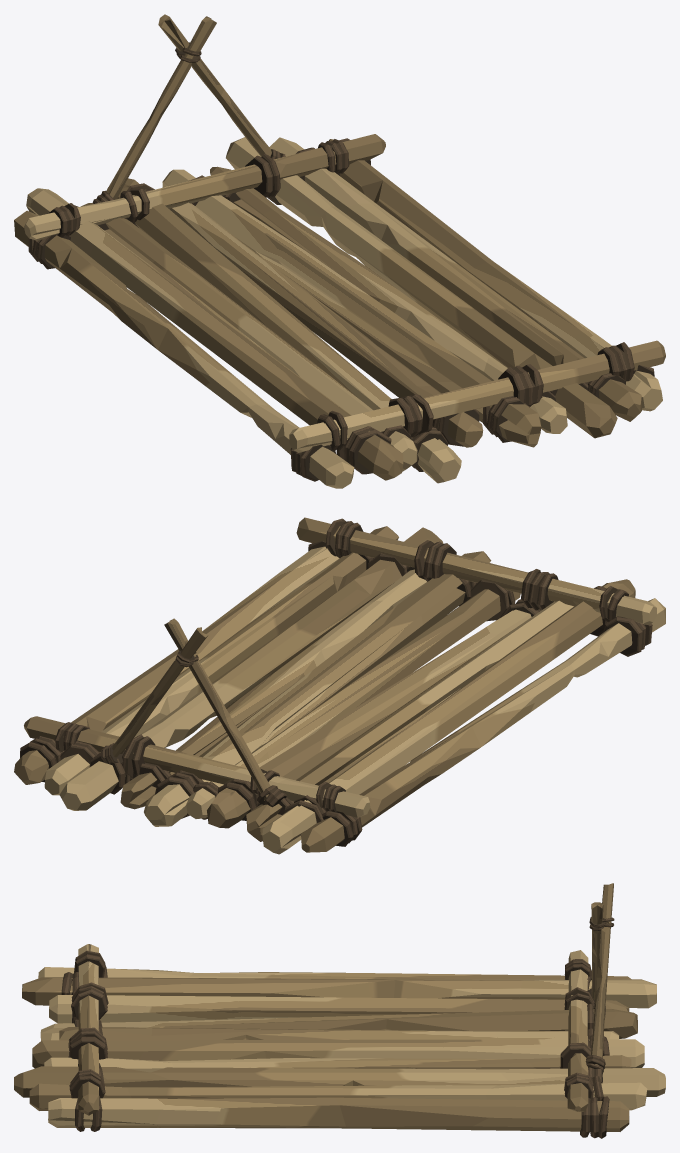
File: SM_Prop_Raft_01.fbx
The picture shows the model from 3 angles, top to bottom: view 1: azimuth 30°, elevation 25°; view 2: azimuth 150°, elevation 25°; view 3: azimuth 270°, elevation 25°; orthographic projection. The views are drawn at different scales.
Parts seen in each view (by area): view 1: SM_Prop_Raft_01; view 2: SM_Prop_Raft_01; view 3: SM_Prop_Raft_01.
Part boxes in pixels (x1=…): SM_Prop_Raft_01: x1=14, y1=14, x2=665, y2=488; SM_Prop_Raft_01: x1=14, y1=517, x2=665, y2=854; SM_Prop_Raft_01: x1=14, y1=883, x2=665, y2=1138.
Size of the model in its own units: 268 by 152 by 468.
1 material, 1 textured.
